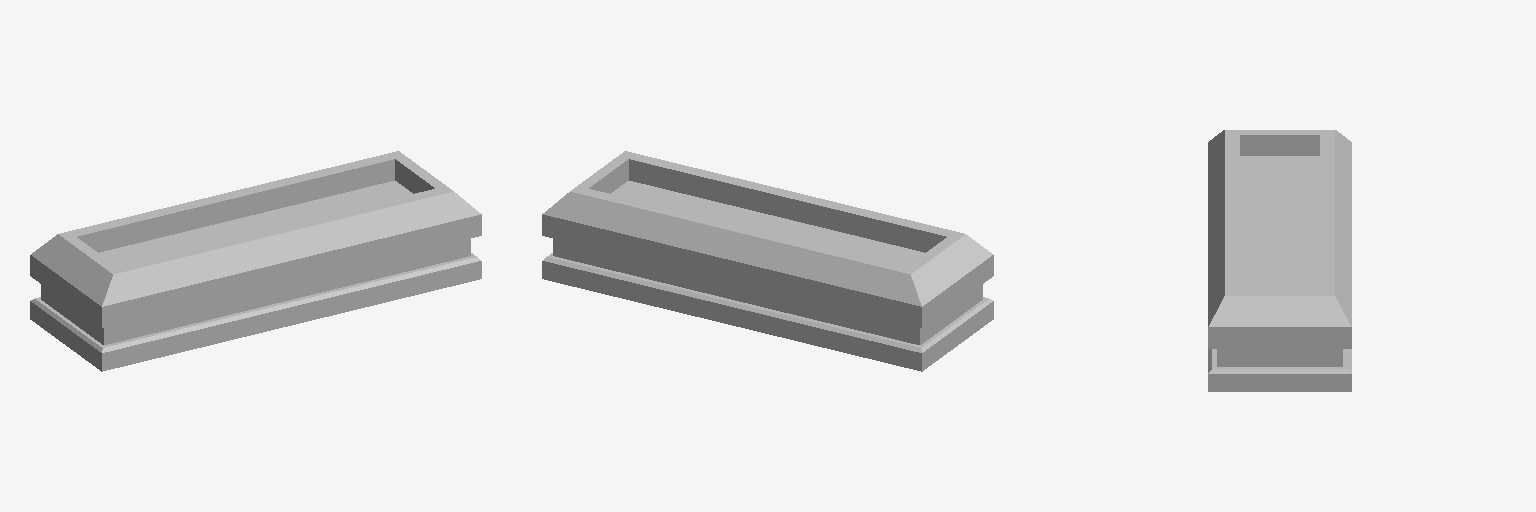
Rendered from Hydroponic_Bay.obj.
3 views of the same model, side by side, from view 1: azimuth 30°, elevation 25°; view 2: azimuth 150°, elevation 25°; view 3: azimuth 270°, elevation 25° (orthographic).
Parts seen in each view (by area): view 1: Hydroponic_Bay; view 2: Hydroponic_Bay; view 3: Hydroponic_Bay.
Part boxes in pixels (left/top/right/bottom): Hydroponic_Bay: left=30, top=151, right=481, bottom=371; Hydroponic_Bay: left=542, top=151, right=993, bottom=371; Hydroponic_Bay: left=1208, top=130, right=1351, bottom=391.
Bounding box in the file's own units: 2.27 × 0.4954 × 0.7418.